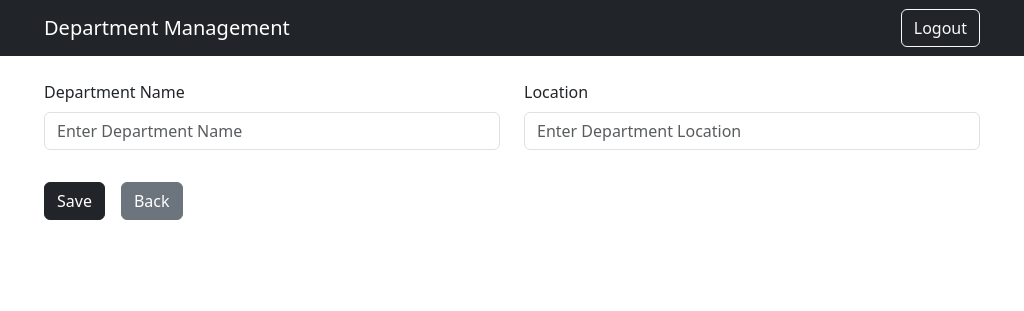
DepartmentForm › handles form submission error
Type "Finance" into the field labelled "Department Name". click: (272, 131)
box: [44, 112, 500, 150]
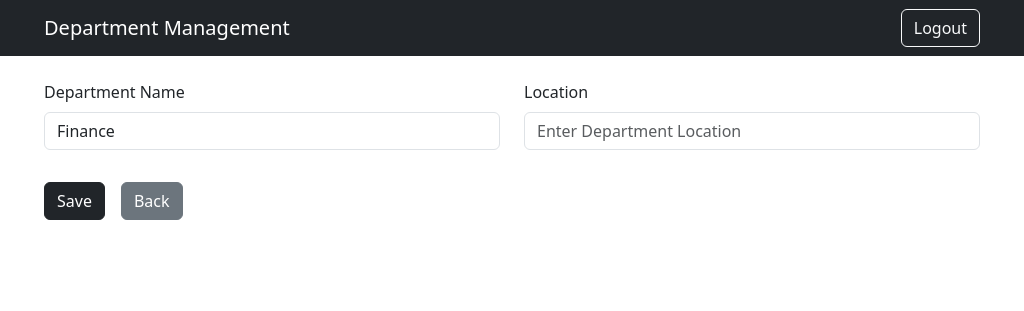
Type "Los Angeles" into the field labelled "Location". click: (752, 131)
box: [524, 112, 980, 150]
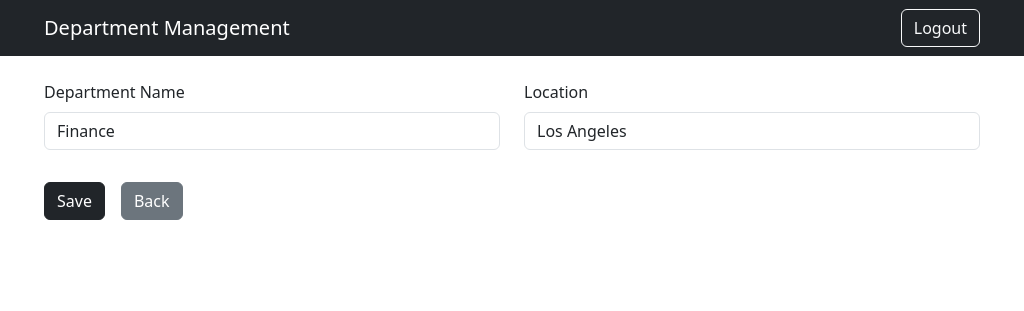
Click the button "Save". click: (74, 201)
box: [44, 182, 105, 220]
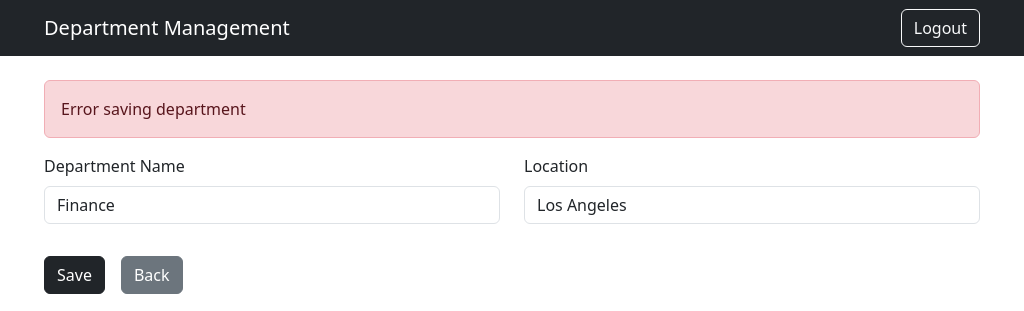
Now the text "Error saving department" is shown, box [44, 80, 980, 138]
